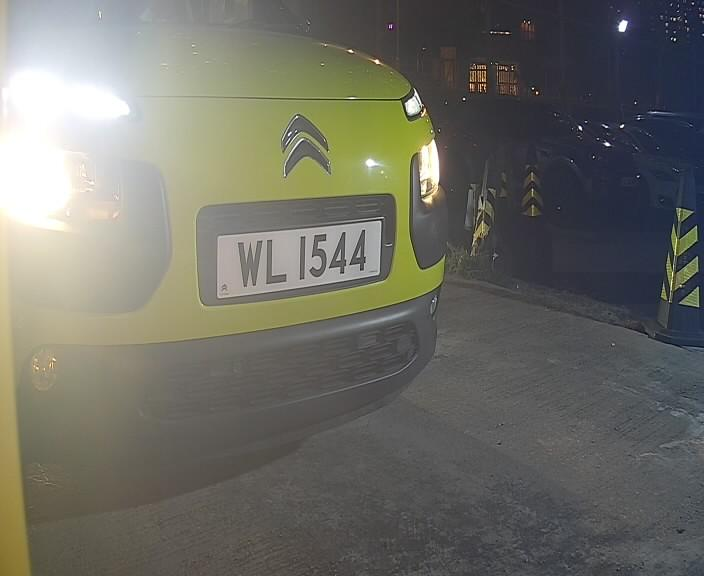Car: (1, 1, 522, 440)
License Plate: (205, 211, 384, 307)
